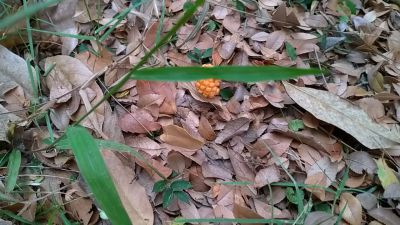eggs: (193, 60, 223, 97)
